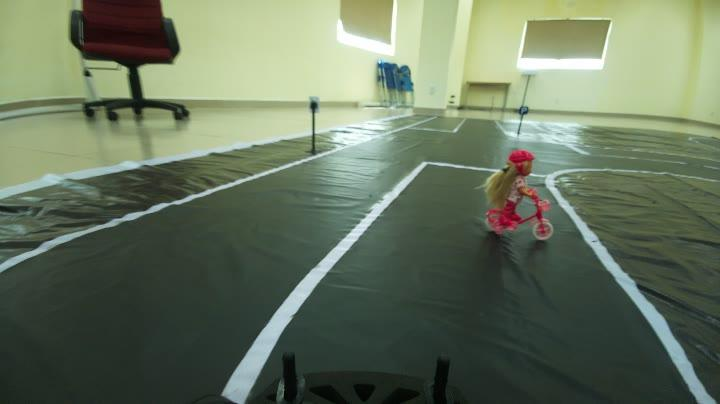pedestrian: (481, 145, 567, 235)
